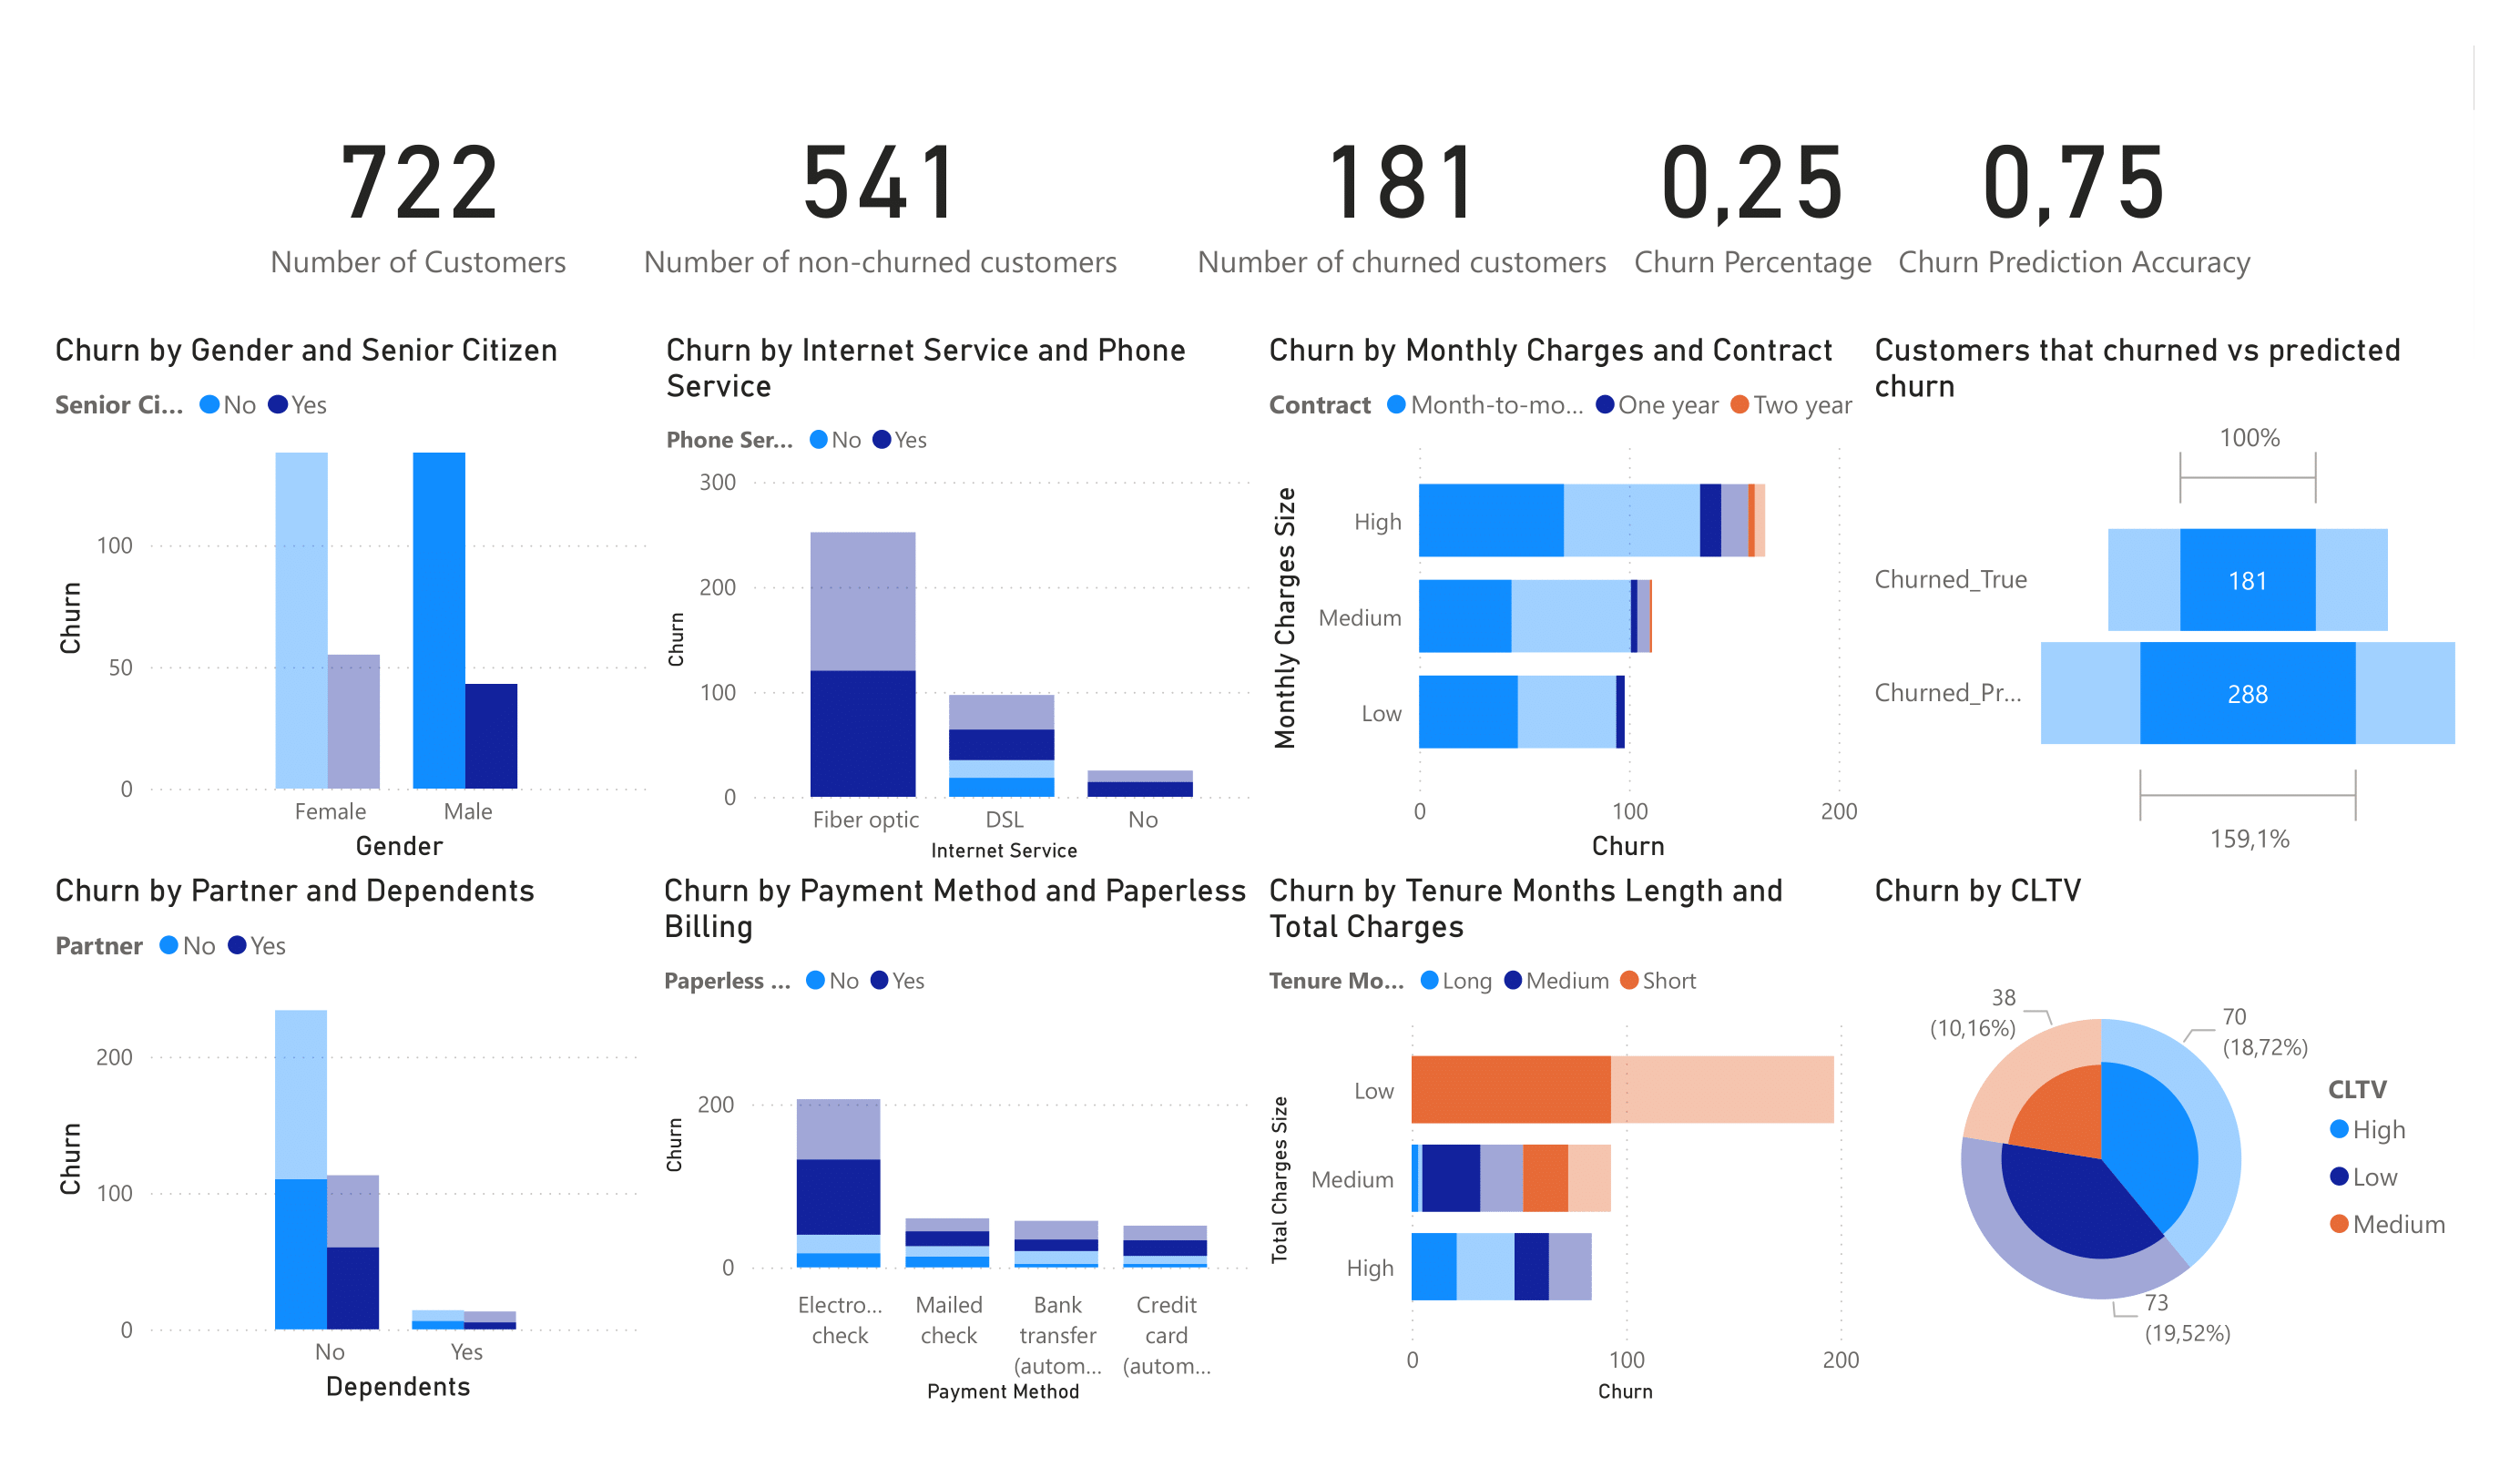

This screenshot's page, from the dashboard's own definition file:
{"tool":"powerbi","page":{"name":"Side 1","canvas":[1280,720],"ordinal":0},"visuals":[{"type":"card","fields":{"Values":["Avg(Forespørgsel1.y_true)"]},"box":[829.7,0,140.1,149.8],"z":0},{"type":"pieChart","title":"Churn by CLTV","fields":{"Y":["Sum(Attributes.y_true)"],"Category":["Attributes.CLTV Size"]},"box":[959,434.8,321,285],"z":1000},{"type":"card","fields":{"Values":["Attributes.Churn Prediction Accuracy"]},"box":[969.7,0,199.4,149.8],"z":2000},{"type":"barChart","title":"Churn by Tenure Months Length and Total Charges","fields":{"Category":["Attributes.Total Charges Size"],"Series":["Attributes.Tenure Months Length"],"Y":["Sum(Attributes.y_true)"]},"box":[640,434.8,321,285],"z":3000},{"type":"barChart","title":"Churn by Monthly Charges and Contract","fields":{"Category":["Attributes.Monthly Charges Size"],"Y":["Sum(Attributes.y_true)"],"Series":["Attributes.Contract"]},"box":[640,149.8,320,285],"z":4000},{"type":"columnChart","title":"Churn by Payment Method and Paperless Billing","fields":{"Category":["Attributes.Payment Method"],"Y":["Sum(Attributes.y_true)"],"Series":["Attributes.Paperless Billing"]},"box":[321,434.8,321,285],"z":5000},{"type":"columnChart","title":"Churn by Internet Service and Phone Service","fields":{"Category":["Attributes.Internet Service"],"Y":["Sum(Attributes.y_true)"],"Series":["Attributes.Phone Service"]},"box":[321.9,149.8,320,285],"z":6000},{"type":"clusteredColumnChart","title":"Churn by Partner and Dependents","fields":{"Category":["Attributes.Dependents"],"Series":["Attributes.Partner"],"Y":["Sum(Attributes.y_true)"]},"box":[0,434.8,321,285],"z":7000},{"type":"clusteredColumnChart","title":"Churn by Gender and Senior Citizen","fields":{"Category":["Attributes.Gender"],"Series":["Attributes.Senior Citizen"],"Y":["Sum(Attributes.y_true)"]},"box":[0,149.8,321.9,285],"z":8000},{"type":"funnel","title":"Customers that churned vs predicted churn","fields":{"Y":["Sum(Attributes.y_true)","Sum(Attributes.y_pred)"]},"box":[959,149.8,321,285],"z":9000},{"type":"card","fields":{"Values":["CountNonNull(Attributes.y_true)"]},"box":[110.9,0,171.2,149.8],"z":10000},{"type":"card","fields":{"Values":["CountNonNull(Attributes.y_true)"]},"box":[600.1,0,229.5,149.8],"z":11000},{"type":"card","fields":{"Values":["CountNonNull(Attributes.y_true)"]},"box":[280.1,0,320,149.8],"z":12000}]}

Visuals, with their boxes in screenshot pixels (x1, y1, x2, y2):
card - Avg(Forespørgsel1.y_true): crop(1757, 66, 2020, 346)
"Churn by CLTV" pieChart: crop(1999, 880, 2519, 1413)
card - Attributes.Churn Prediction Accuracy: crop(2019, 66, 2392, 346)
"Churn by Tenure Months Length and Total Charges" barChart: crop(1402, 880, 2003, 1413)
"Churn by Monthly Charges and Contract" barChart: crop(1402, 346, 2001, 880)
"Churn by Payment Method and Paperless Billing" columnChart: crop(804, 880, 1405, 1413)
"Churn by Internet Service and Phone Service" columnChart: crop(806, 346, 1405, 880)
"Churn by Partner and Dependents" clusteredColumnChart: crop(203, 880, 804, 1413)
"Churn by Gender and Senior Citizen" clusteredColumnChart: crop(203, 346, 806, 880)
"Customers that churned vs predicted churn" funnel: crop(1999, 346, 2519, 880)
card - CountNonNull(Attributes.y_true): crop(411, 66, 731, 346)
card - CountNonNull(Attributes.y_true): crop(1327, 66, 1757, 346)
card - CountNonNull(Attributes.y_true): crop(728, 66, 1327, 346)
